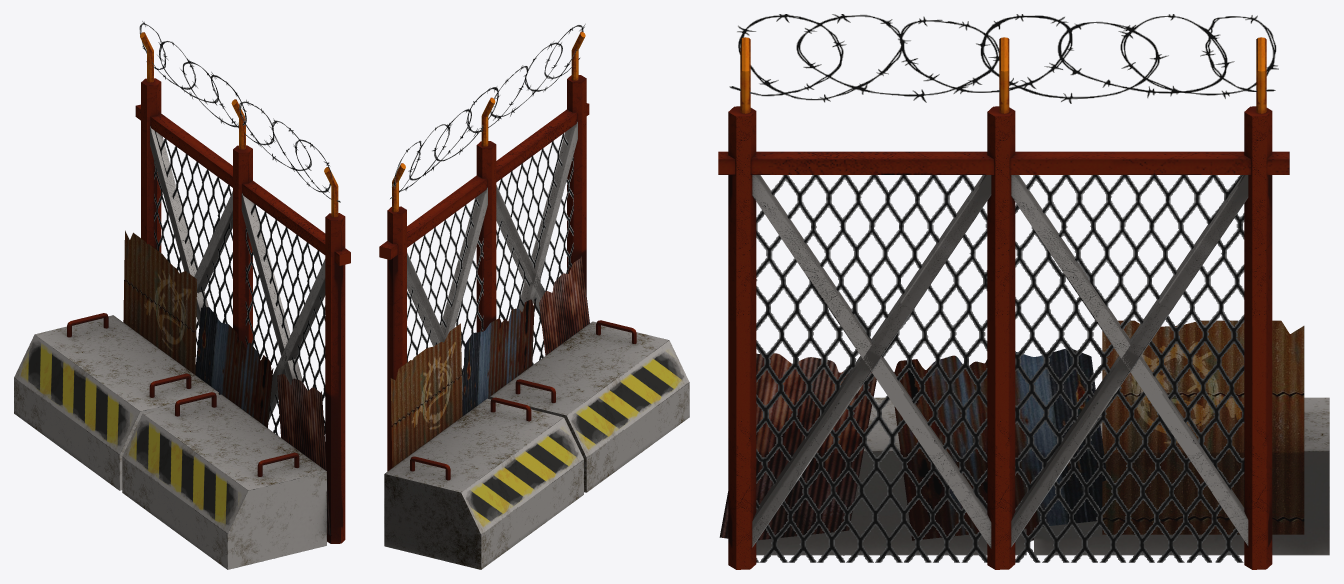
The model's file is Barrier full.fbx.
3 renders of one model, left to right at view 1: azimuth 30°, elevation 25°; view 2: azimuth 150°, elevation 25°; view 3: azimuth 270°, elevation 25°, orthographic. The views are drawn at different scales.
Parts seen in each view (by area): view 1: polySurface8; view 2: polySurface8; view 3: polySurface8.
Boxes of the visible parts, x1=… form: polySurface8: x1=14, y1=21, x2=350, y2=569; polySurface8: x1=379, y1=23, x2=689, y2=569; polySurface8: x1=718, y1=14, x2=1329, y2=569.
Bounding box in the file's own units: 1.64 × 5.1 × 5.19.
Materials: 1 (1 with a texture image).
